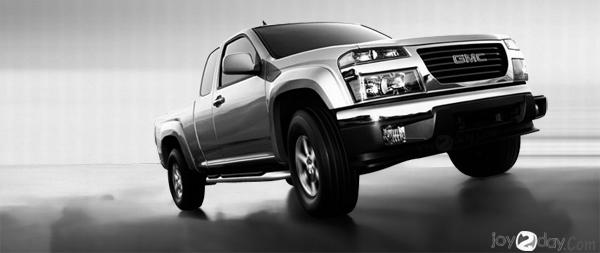car: (151, 20, 551, 221)
